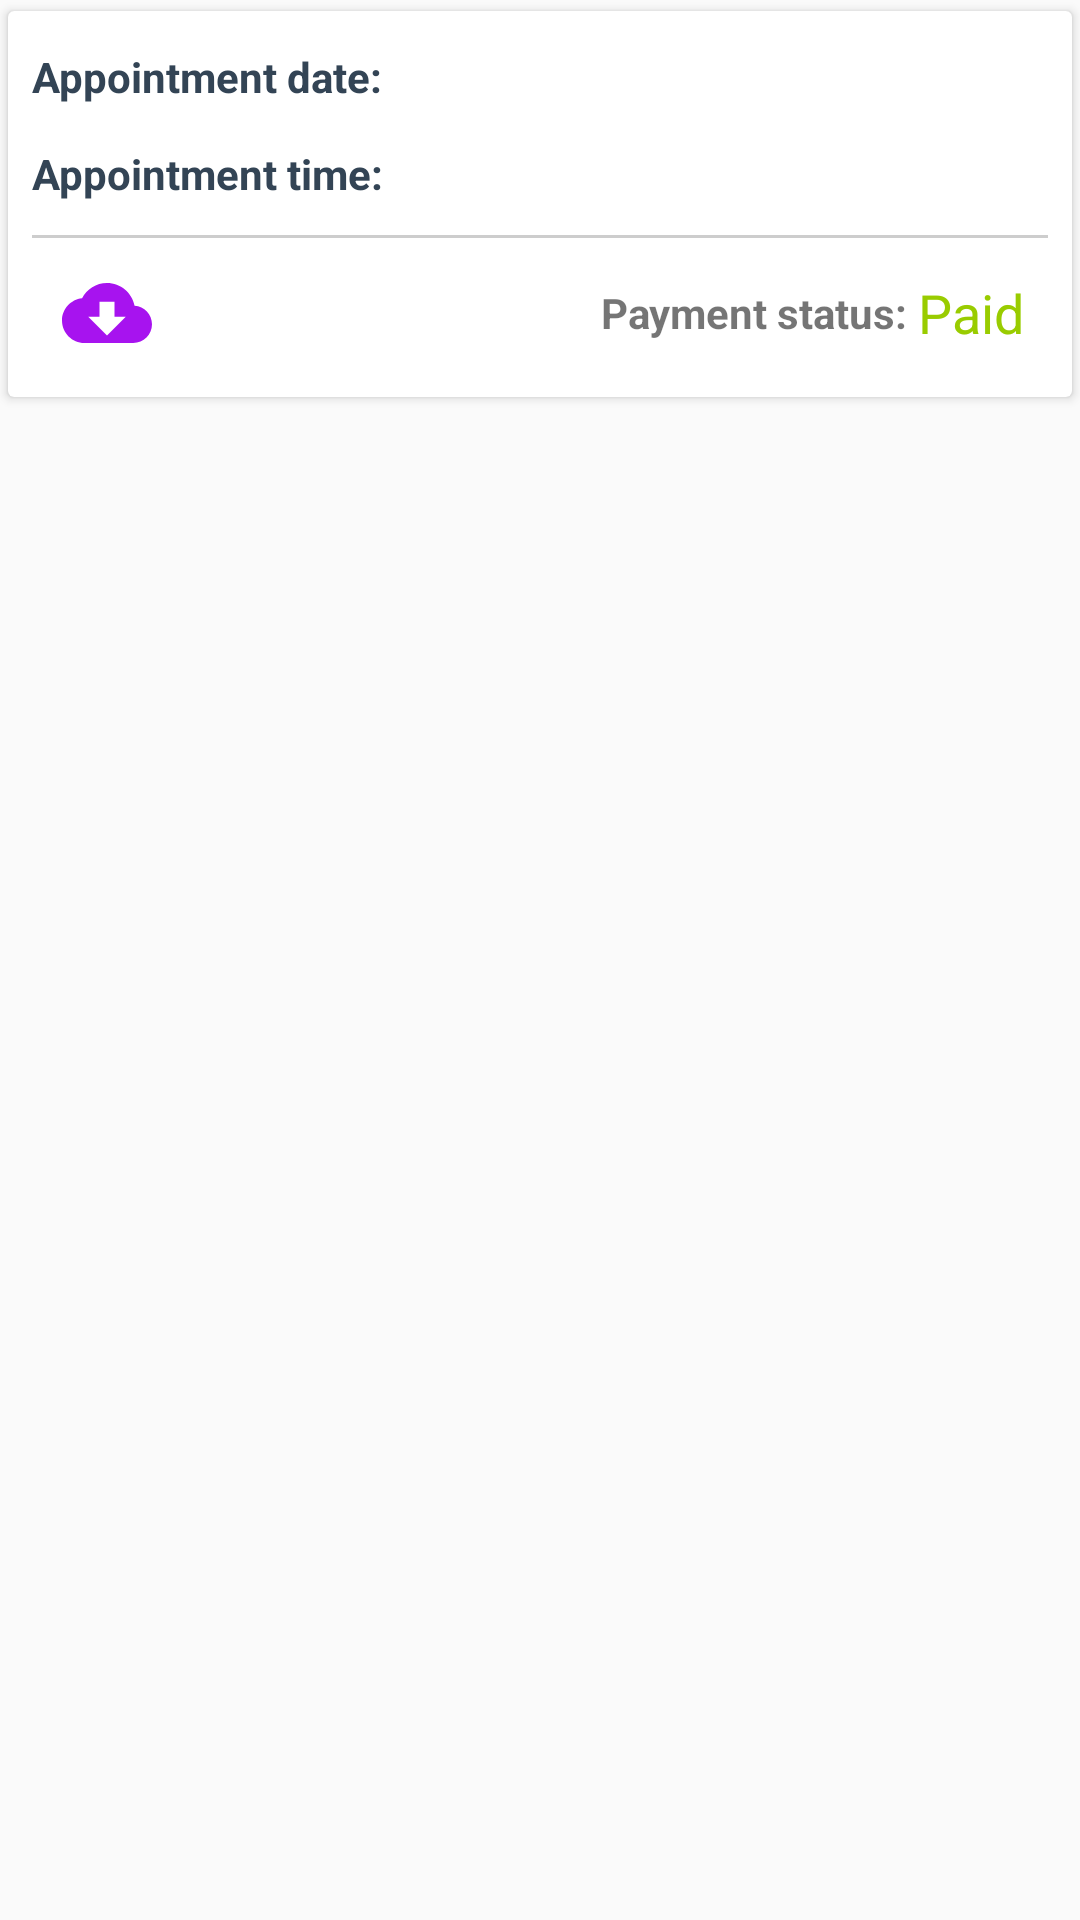

Screen size 1080x1920. Icon name, then its box in pixels as (x1, y1, x2, y2):
download: (62, 283, 152, 343)
